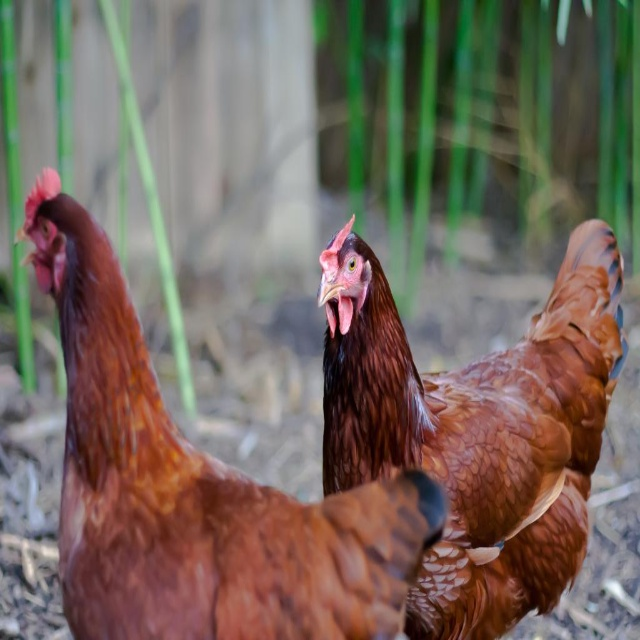Chicken: (12, 168, 448, 639), (311, 214, 619, 629)
